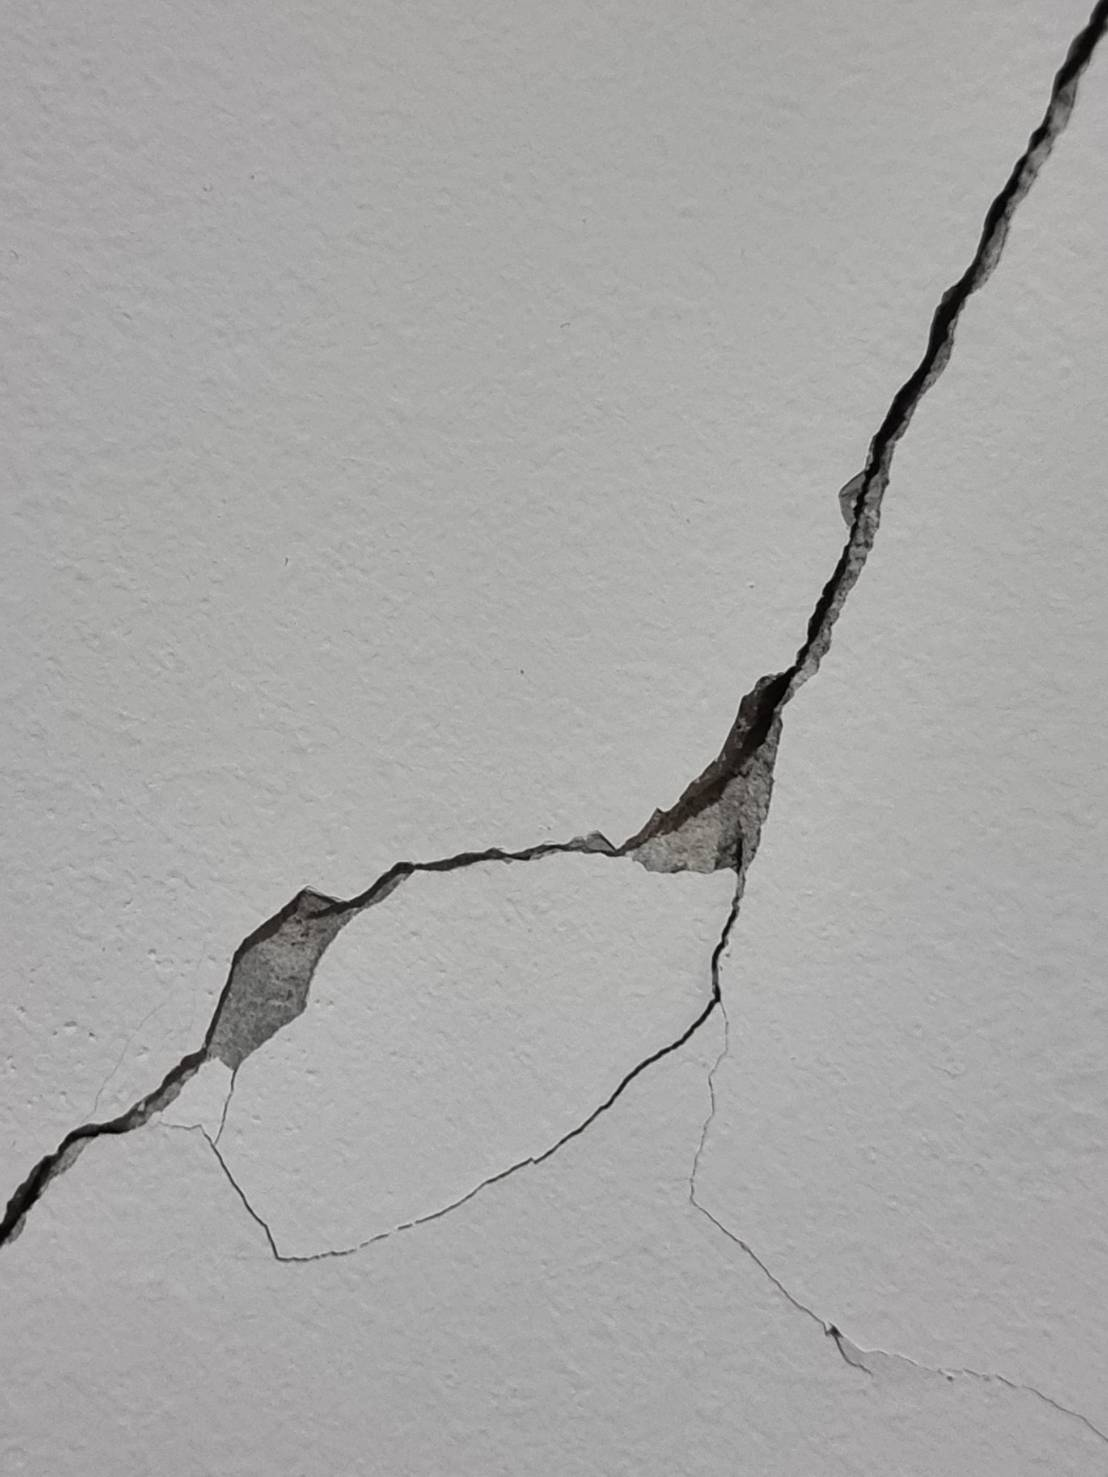Medium: (37, 319, 990, 1179)
